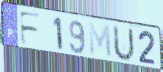1: (52, 16, 65, 52)
2: (137, 29, 158, 68)
9: (68, 19, 86, 55)
F: (18, 10, 42, 47)
M: (88, 22, 113, 60)
U: (112, 24, 135, 63)
